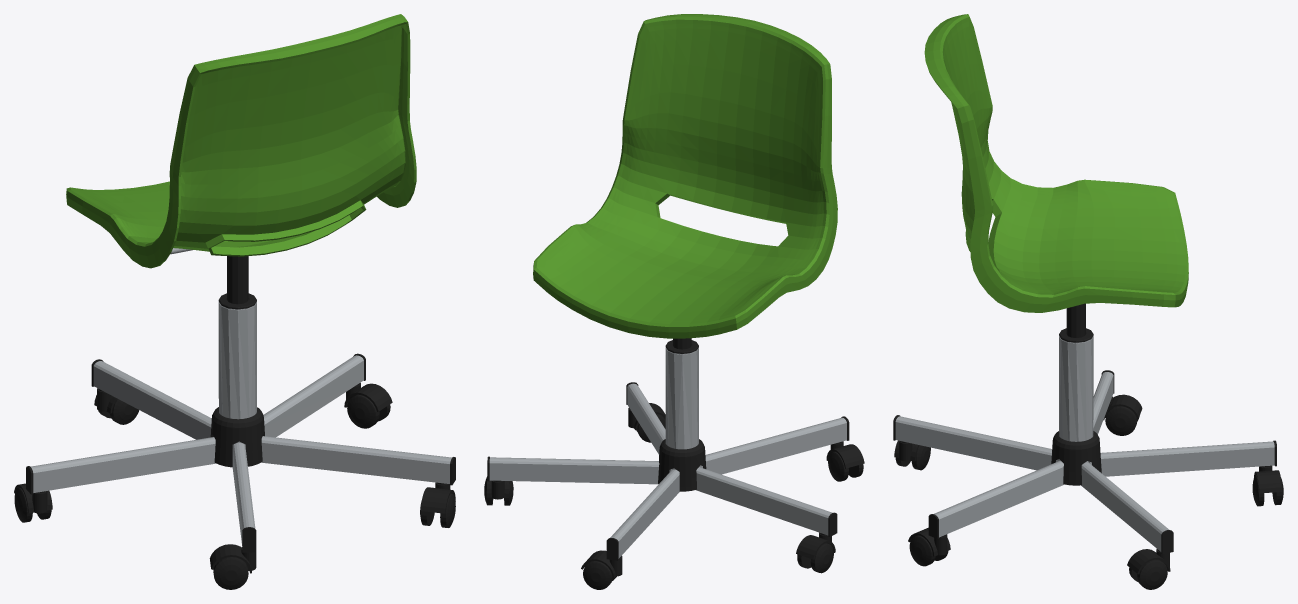
3 renders of one model, left to right at view 1: azimuth 30°, elevation 25°; view 2: azimuth 150°, elevation 25°; view 3: azimuth 270°, elevation 25°, orthographic. The views are drawn at different scales.
Visible parts, largest first — view 1: Mesh2 Group2 SNILLE_IKEA1 Model, Mesh8 Group6 SNILLE_IKEA1 Model, Mesh7 Group5 SNILLE_IKEA1 Model, Mesh1 Group1 SNILLE_IKEA1 Model, Mesh3 Group3 SNILLE_IKEA1 Model, Mesh20 ROULETTE4 SNILLE_IKEA1 Model, Mesh16 ROULETTE3 SNILLE_IKEA1 Model, Mesh12 ROULETTE2 SNILLE_IKEA1 Model, Mesh15 ROULETTE3 SNILLE_IKEA1 Model, Mesh18 ROULETTE4 SNILLE_IKEA1 Model, Mesh9 ROULETTE1 SNILLE_IKEA1 Model; view 2: Mesh2 Group2 SNILLE_IKEA1 Model, Mesh8 Group6 SNILLE_IKEA1 Model, Mesh7 Group5 SNILLE_IKEA1 Model, Mesh1 Group1 SNILLE_IKEA1 Model, Mesh23 ROULETTE5 SNILLE_IKEA1 Model, Mesh18 ROULETTE4 SNILLE_IKEA1 Model, Mesh9 ROULETTE1 SNILLE_IKEA1 Model, Mesh11 ROULETTE1 SNILLE_IKEA1 Model; view 3: Mesh2 Group2 SNILLE_IKEA1 Model, Mesh8 Group6 SNILLE_IKEA1 Model, Mesh7 Group5 SNILLE_IKEA1 Model, Mesh1 Group1 SNILLE_IKEA1 Model, Mesh3 Group3 SNILLE_IKEA1 Model, Mesh10 ROULETTE1 SNILLE_IKEA1 Model, Mesh17 ROULETTE3 SNILLE_IKEA1 Model, Mesh21 ROULETTE5 SNILLE_IKEA1 Model, Mesh15 ROULETTE3 SNILLE_IKEA1 Model, Mesh14 ROULETTE2 SNILLE_IKEA1 Model, Mesh12 ROULETTE2 SNILLE_IKEA1 Model.
Part boxes in pixels (x1,y1,x2,y2): Mesh2 Group2 SNILLE_IKEA1 Model: (66,14,416,268); Mesh8 Group6 SNILLE_IKEA1 Model: (26,353,455,552); Mesh7 Group5 SNILLE_IKEA1 Model: (218,302,256,419); Mesh1 Group1 SNILLE_IKEA1 Model: (210,407,264,467); Mesh3 Group3 SNILLE_IKEA1 Model: (218,256,256,309); Mesh20 ROULETTE4 SNILLE_IKEA1 Model: (213,557,248,589); Mesh16 ROULETTE3 SNILLE_IKEA1 Model: (347,394,379,428); Mesh12 ROULETTE2 SNILLE_IKEA1 Model: (420,482,455,513); Mesh15 ROULETTE3 SNILLE_IKEA1 Model: (344,382,392,411); Mesh18 ROULETTE4 SNILLE_IKEA1 Model: (209,544,256,573); Mesh9 ROULETTE1 SNILLE_IKEA1 Model: (14,483,52,513); Mesh2 Group2 SNILLE_IKEA1 Model: (533,14,837,338); Mesh8 Group6 SNILLE_IKEA1 Model: (487,382,849,560); Mesh7 Group5 SNILLE_IKEA1 Model: (665,347,698,449); Mesh1 Group1 SNILLE_IKEA1 Model: (658,439,706,491); Mesh23 ROULETTE5 SNILLE_IKEA1 Model: (583,561,612,589); Mesh18 ROULETTE4 SNILLE_IKEA1 Model: (826,441,864,468); Mesh9 ROULETTE1 SNILLE_IKEA1 Model: (796,532,835,559); Mesh11 ROULETTE1 SNILLE_IKEA1 Model: (810,543,833,573); Mesh2 Group2 SNILLE_IKEA1 Model: (924,14,1188,312); Mesh8 Group6 SNILLE_IKEA1 Model: (893,370,1276,554); Mesh7 Group5 SNILLE_IKEA1 Model: (1059,336,1093,441); Mesh1 Group1 SNILLE_IKEA1 Model: (1051,431,1101,485); Mesh3 Group3 SNILLE_IKEA1 Model: (1059,303,1093,342); Mesh10 ROULETTE1 SNILLE_IKEA1 Model: (1105,406,1137,435); Mesh17 ROULETTE3 SNILLE_IKEA1 Model: (1137,559,1167,589); Mesh21 ROULETTE5 SNILLE_IKEA1 Model: (1254,465,1282,493); Mesh15 ROULETTE3 SNILLE_IKEA1 Model: (1127,549,1170,574); Mesh14 ROULETTE2 SNILLE_IKEA1 Model: (909,535,935,566); Mesh12 ROULETTE2 SNILLE_IKEA1 Model: (908,527,950,556).
Size of the model in its own units: 0.5968 by 0.7596 by 0.5839.
